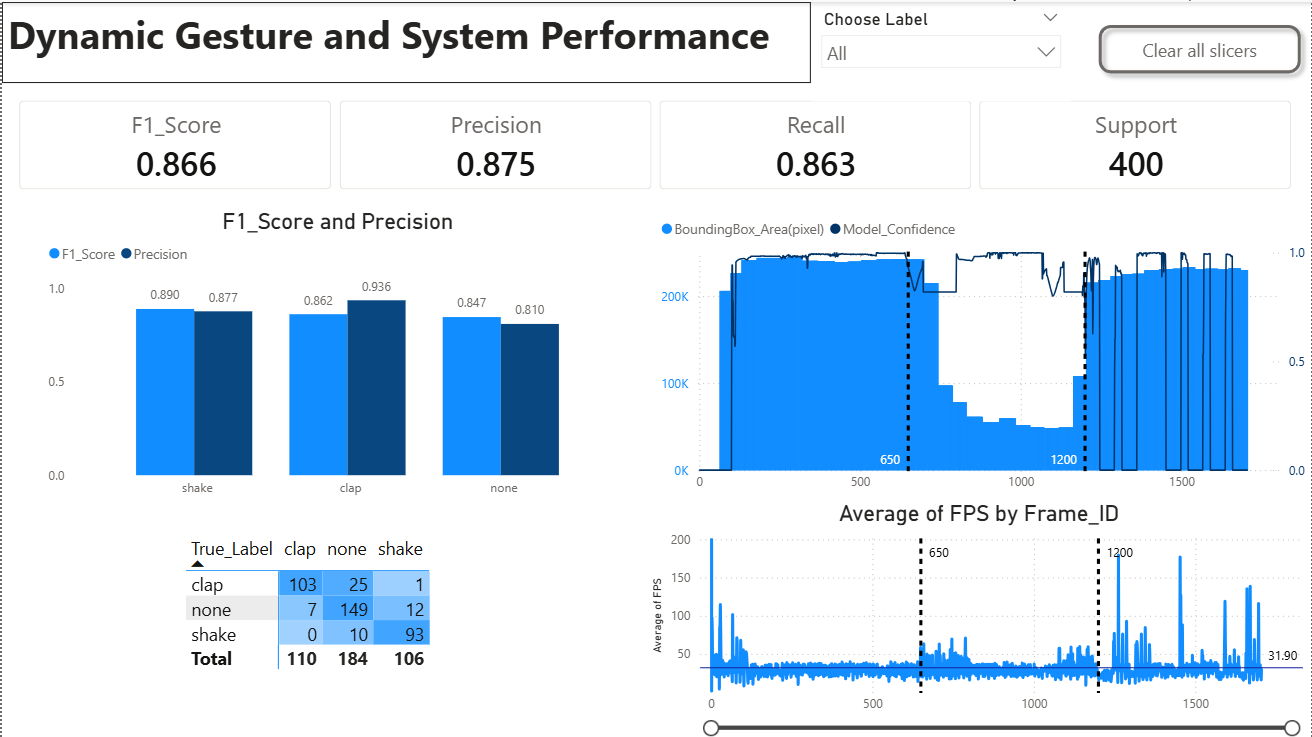

This screenshot's page, from the dashboard's own definition file:
{"tool":"powerbi","page":{"name":"GRU","canvas":[1280,720],"ordinal":2},"visuals":[{"type":"group","id":"g1","title":"Group 1","box":[0,93.2,1280,626.1],"z":0},{"type":"shape","box":[0,93.2,640,107.1],"z":0,"group":"g1"},{"type":"cardVisual","fields":{"Data":["Avg(gru_model_metrics.F1_Score)","Avg(gru_model_metrics.Precision)","Avg(gru_model_metrics.Recall)","Sum(gru_model_metrics.Support)"]},"box":[0,93.2,1280,108.5],"z":1000},{"type":"shape","box":[640,204.5,640,249],"z":1000,"group":"g1"},{"type":"clusteredColumnChart","title":"F1_Score and Precision","fields":{"Category":["gru_model_metrics.Class"],"Y":["Avg(gru_model_metrics.F1_Score)","Avg(gru_model_metrics.Precision)"]},"box":[40.3,218.4,576,236.5],"z":2000},{"type":"shape","box":[640,453.5,640,265.7],"z":2000,"group":"g1"},{"type":"slicer","fields":{"Values":["gru_model_metrics.Class"]},"box":[791.7,1.4,254.6,96],"z":3000},{"type":"shape","box":[0,204.5,640,249],"z":3000,"group":"g1"},{"type":"textbox","box":[0,0,791.2,79.5],"z":4000},{"type":"shape","box":[0,453.5,640,265.7],"z":4000,"group":"g1"},{"type":"lineChart","fields":{"Y":["Avg(powerbi_main_telemetry.FPS)"],"Category":["powerbi_main_telemetry.Frame_ID"]},"box":[649.7,467.5,612.2,242.1],"z":5000},{"type":"lineClusteredColumnComboChart","fields":{"Category":["powerbi_main_telemetry.Frame_ID"],"Y":["Avg(powerbi_main_telemetry.BoundingBox_Area)"],"Y2":["Avg(powerbi_main_telemetry.Model_Confidence)"]},"box":[669.2,205.9,605.2,249],"z":6000},{"type":"pivotTable","fields":{"Rows":["gru_confusion_matrix.True_Label"],"Columns":["gru_confusion_matrix.Predicted_Label"],"Values":["Sum(gru_confusion_matrix.Count)"]},"box":[161.4,498.1,317.2,179.5],"z":7000},{"type":"actionButton","box":[1064.3,13.9,215.7,65.4],"z":8000},{"type":"shape","box":[640,93.2,640,107.1],"z":8002,"group":"g1"}]}

Visuals, with their boxes in screenshot pixels (x1, y1, x2, y2), scaled from the page's 1280x720 canvas onto the 1312x737 screenshot:
"Group 1" group: <region>0, 95, 1311, 736</region>
shape: <region>0, 95, 656, 205</region>
cardVisual - Avg(gru_model_metrics.F1_Score) x Avg(gru_model_metrics.Precision): <region>0, 95, 1311, 206</region>
shape: <region>656, 209, 1311, 464</region>
"F1_Score and Precision" clusteredColumnChart: <region>41, 224, 632, 466</region>
shape: <region>656, 464, 1311, 736</region>
slicer - gru_model_metrics.Class: <region>811, 1, 1072, 100</region>
shape: <region>0, 209, 656, 464</region>
textbox: <region>0, 0, 811, 81</region>
shape: <region>0, 464, 656, 736</region>
lineChart - Avg(powerbi_main_telemetry.FPS) x powerbi_main_telemetry.Frame_ID: <region>666, 479, 1293, 726</region>
lineClusteredColumnComboChart - powerbi_main_telemetry.Frame_ID x Avg(powerbi_main_telemetry.BoundingBox_Area): <region>686, 211, 1306, 466</region>
pivotTable - gru_confusion_matrix.True_Label x gru_confusion_matrix.Predicted_Label: <region>165, 510, 491, 694</region>
actionButton: <region>1091, 14, 1311, 81</region>
shape: <region>656, 95, 1311, 205</region>
